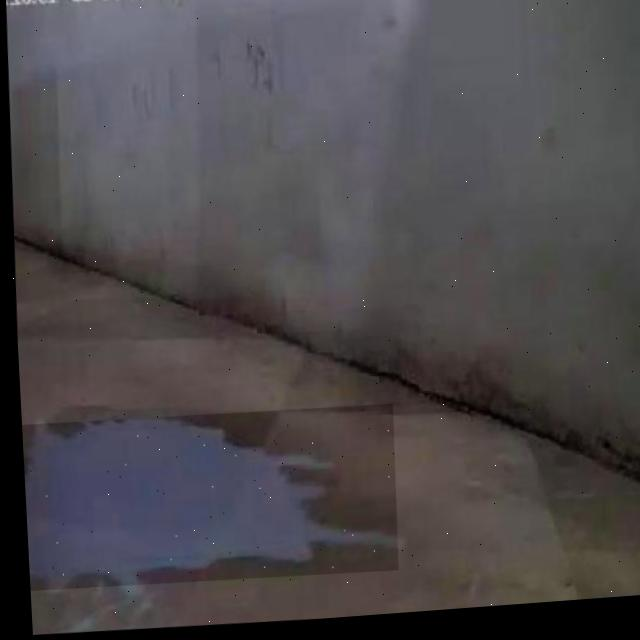spillage: (19, 421, 390, 588)
